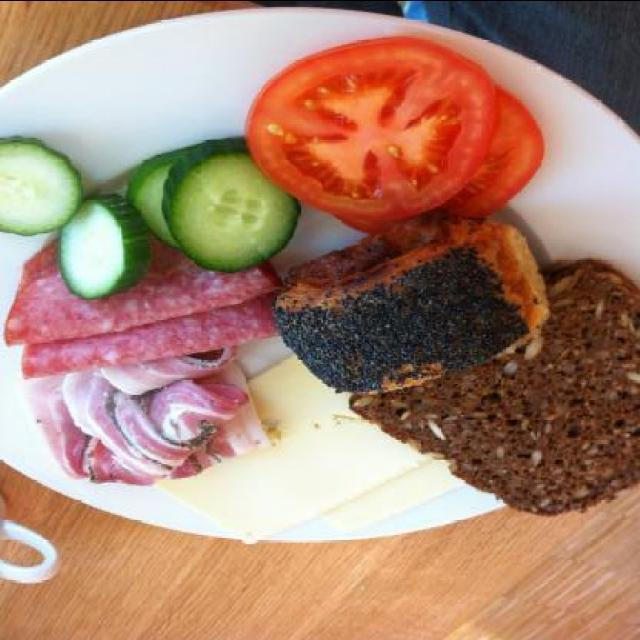Tomato: (242, 38, 496, 220), (330, 86, 548, 234)
